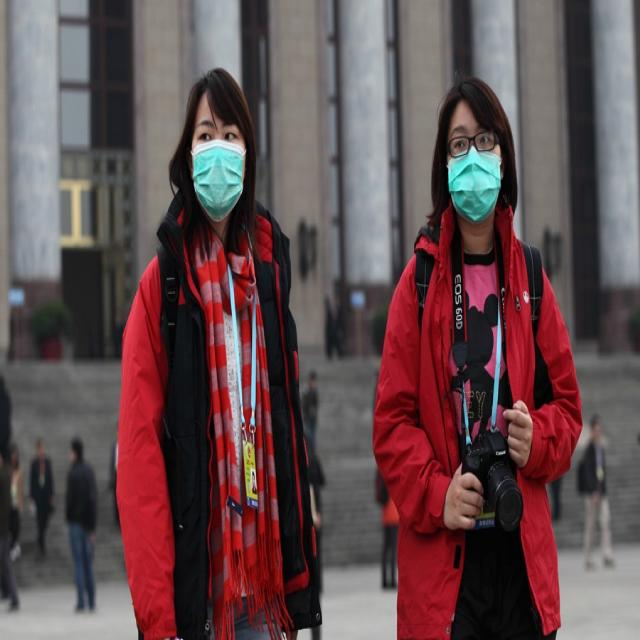mask: (191, 94, 246, 218), (446, 100, 501, 220)
